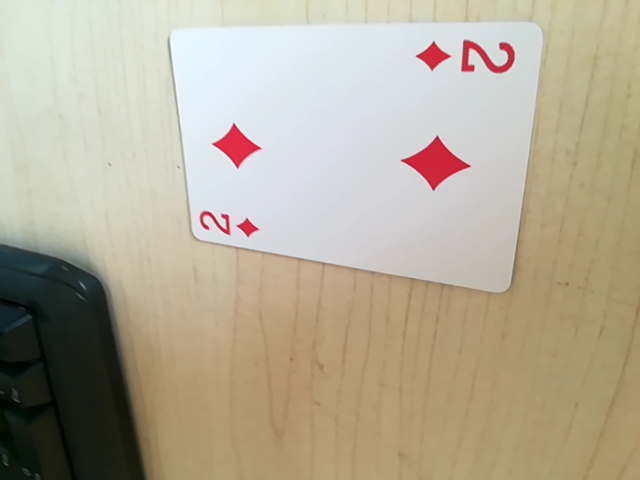fk 2: (414, 31, 520, 83), (195, 200, 267, 244)
